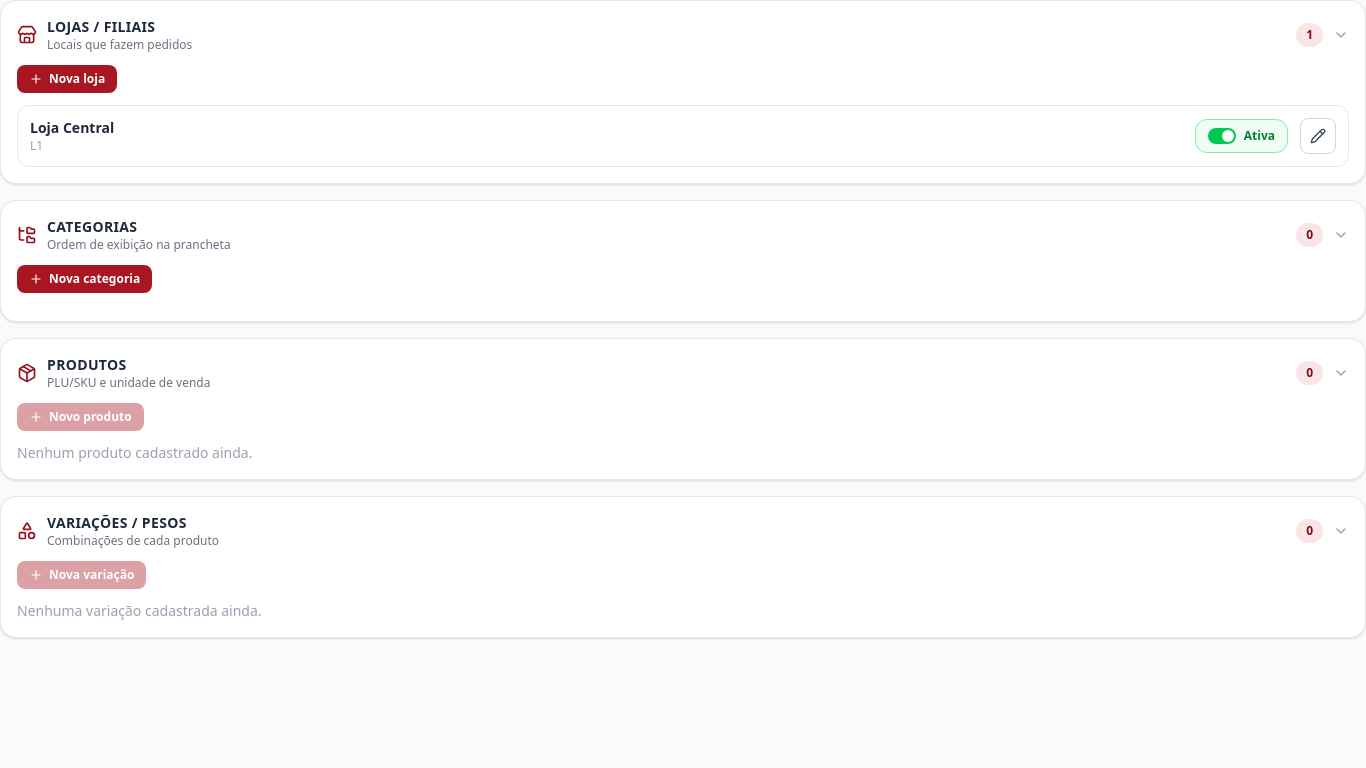
Scenario: CatalogBoard — colapso persistido › expande de volta e grava o estado aberto
The width and height of the screenshot is (1366, 768).
Click the button "Lojas / Filiais Locais que fazem pedidos 1" at (101, 26), box [17,17,1349,53]
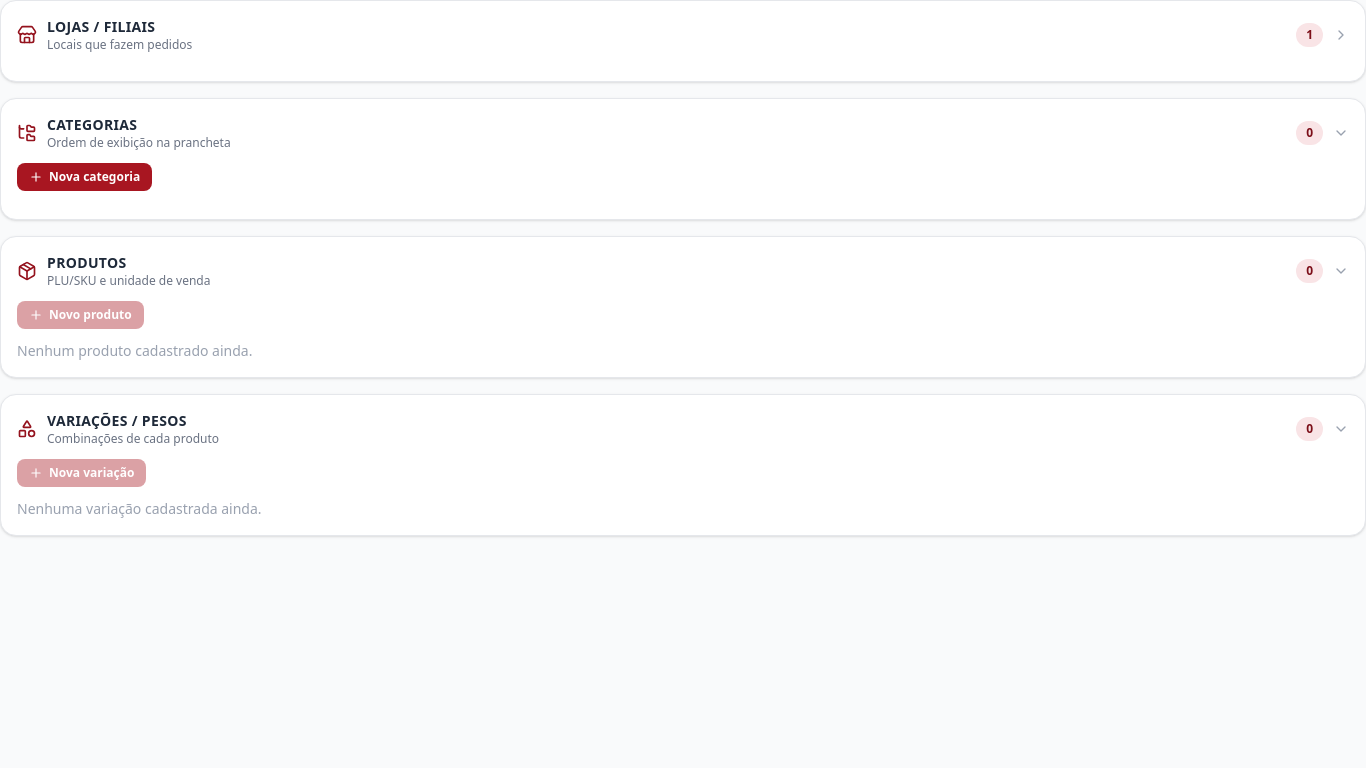
Click the button "Lojas / Filiais Locais que fazem pedidos 1" at (101, 26), box [17,17,1349,53]
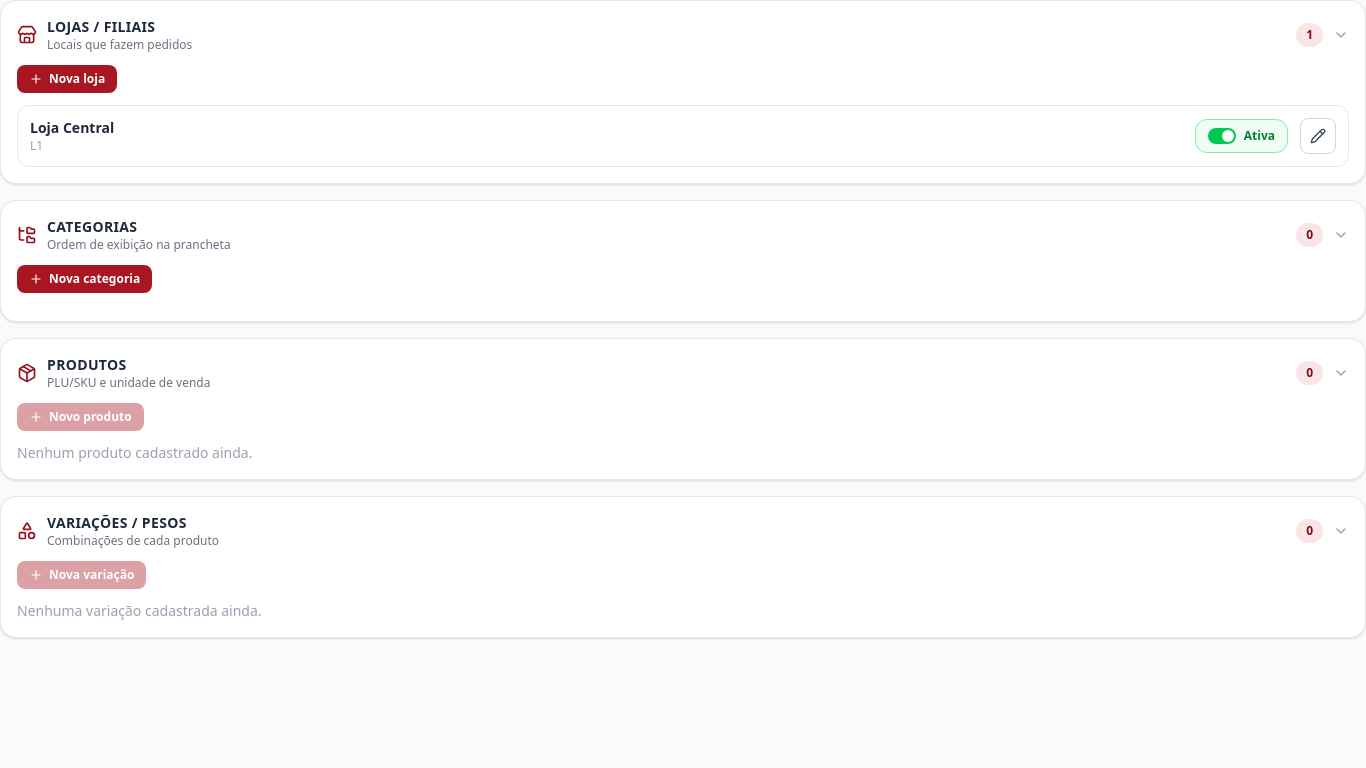
Now the button "Lojas / Filiais Locais que fazem pedidos 1" is expanded, box [17,17,1349,53]
